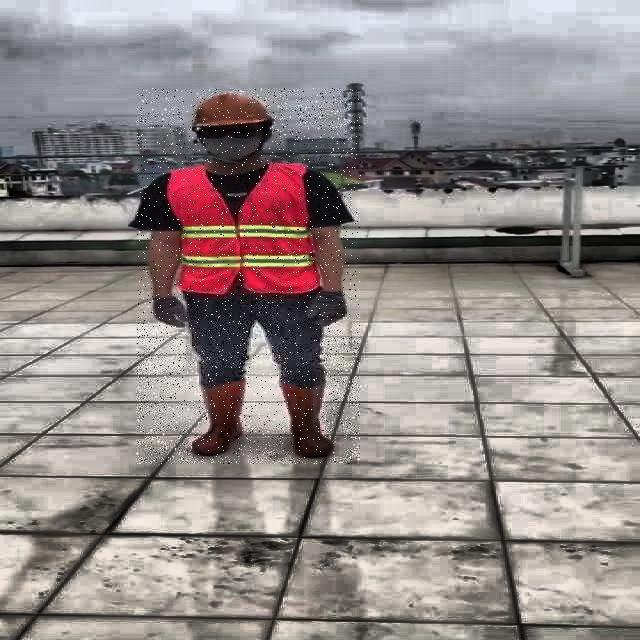safety_helmet: (188, 92, 274, 130)
safety_jacket: (167, 165, 317, 294)
